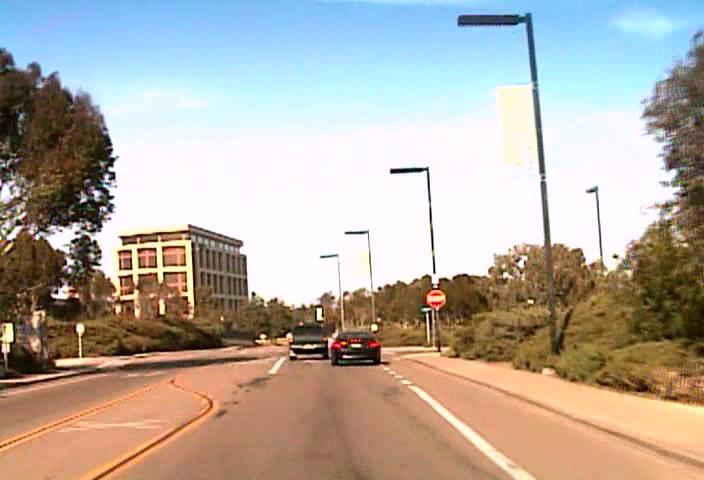stop: (426, 289, 446, 308)
